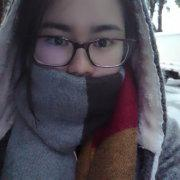WRONG: (34, 21, 132, 119)
